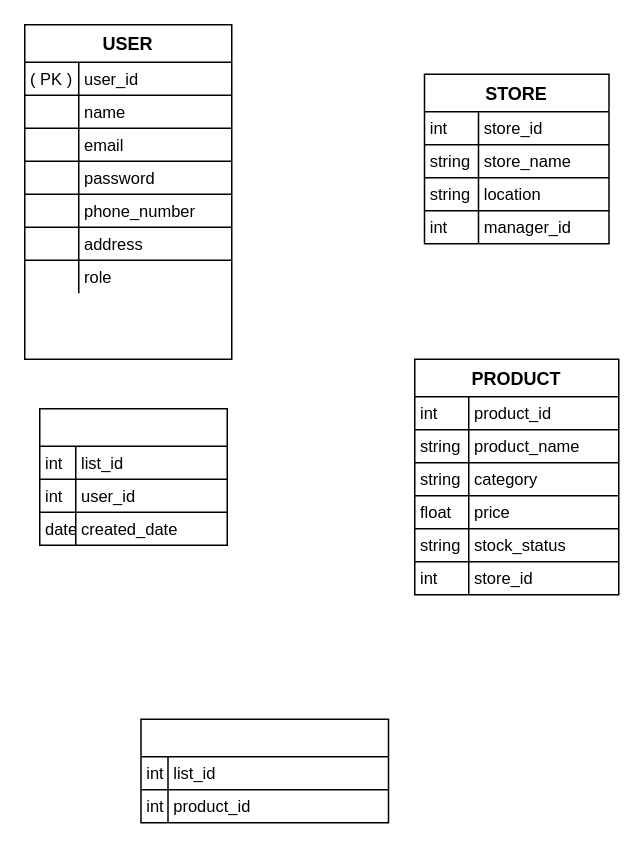
Image size: 644x848. Some labels were removed from this diagram. The shapes that lost their labels are listed below. From the top down, each one's box as (x1, y1, x2, y2) in pixels, then its label:
(38, 407, 227, 545): GROCERYLIST
(140, 718, 388, 823): GROCERYLIST_PRODUCTS
